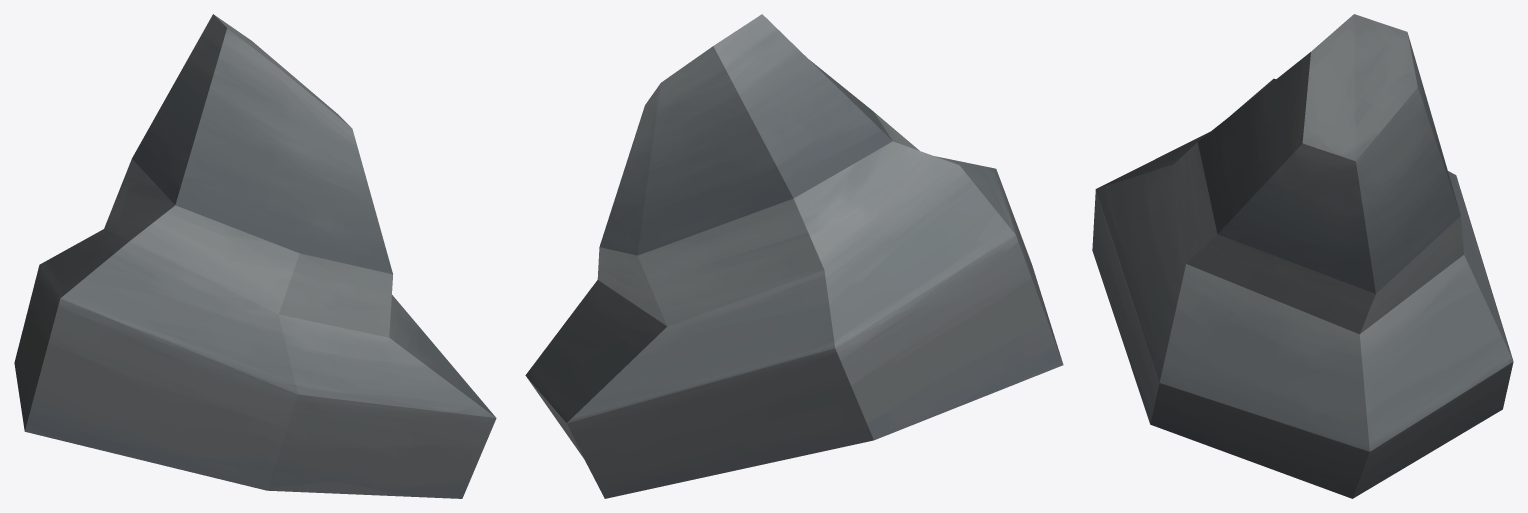
Rendered from rock1.fbx.
The picture shows the model from 3 angles, left to right: view 1: azimuth 30°, elevation 25°; view 2: azimuth 150°, elevation 25°; view 3: azimuth 270°, elevation 25°; orthographic projection. The views are drawn at different scales.
Visible parts, largest first — view 1: SM_SeaBox.038; view 2: SM_SeaBox.038; view 3: SM_SeaBox.038.
Part boxes in pixels (box(x1,y1,x2,y2)): SM_SeaBox.038: box(14, 14, 496, 498); SM_SeaBox.038: box(525, 14, 1063, 498); SM_SeaBox.038: box(1092, 14, 1513, 498).
Bounding box in the file's own units: 865 × 838 × 777.
Materials: 1 (1 with a texture image).
